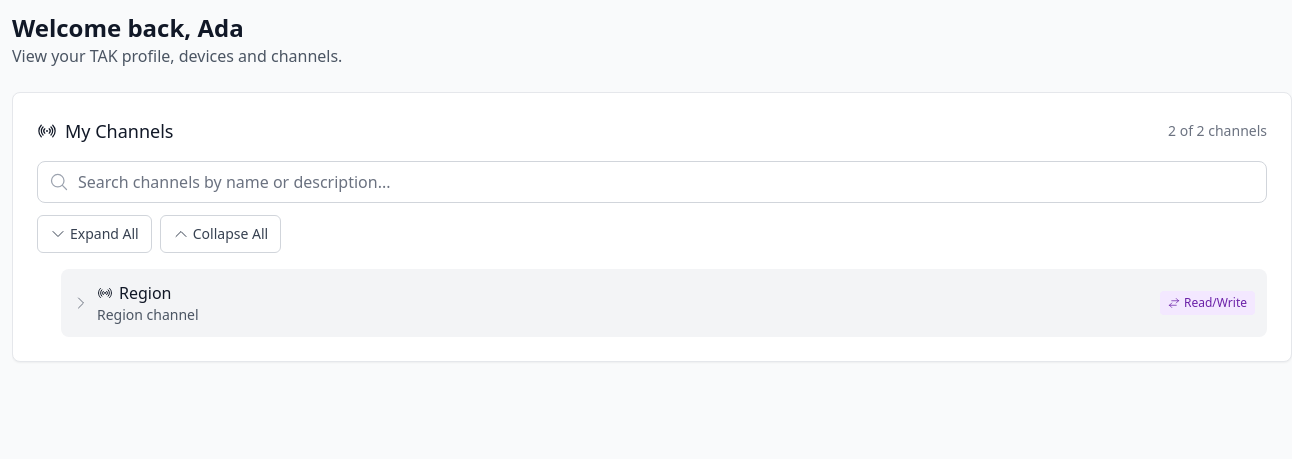
Scenario: Dashboard folder tree tap targets (bugfix) › expands an expandable-channel row when the WHOLE row is clicked, not only its chevron
Expected: the heading "Region" is shown, [119, 281, 172, 305]
Expected: the text "Alpha" is not shown
Click the element showing "Region Region channel Read/Write" at (664, 303), box [61, 269, 1267, 337]
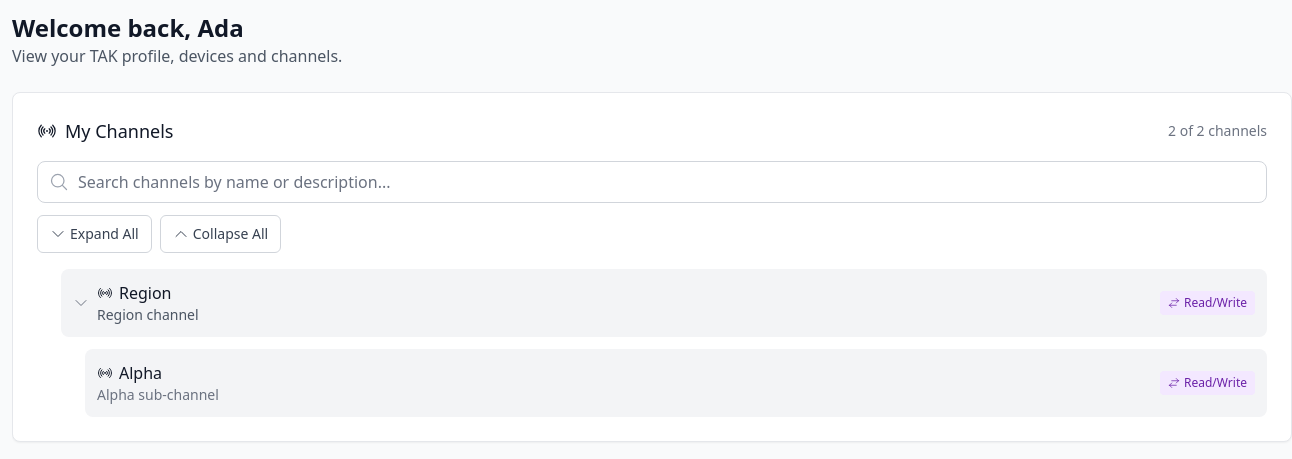
Expected: the text "Alpha" is shown, [119, 361, 162, 385]
